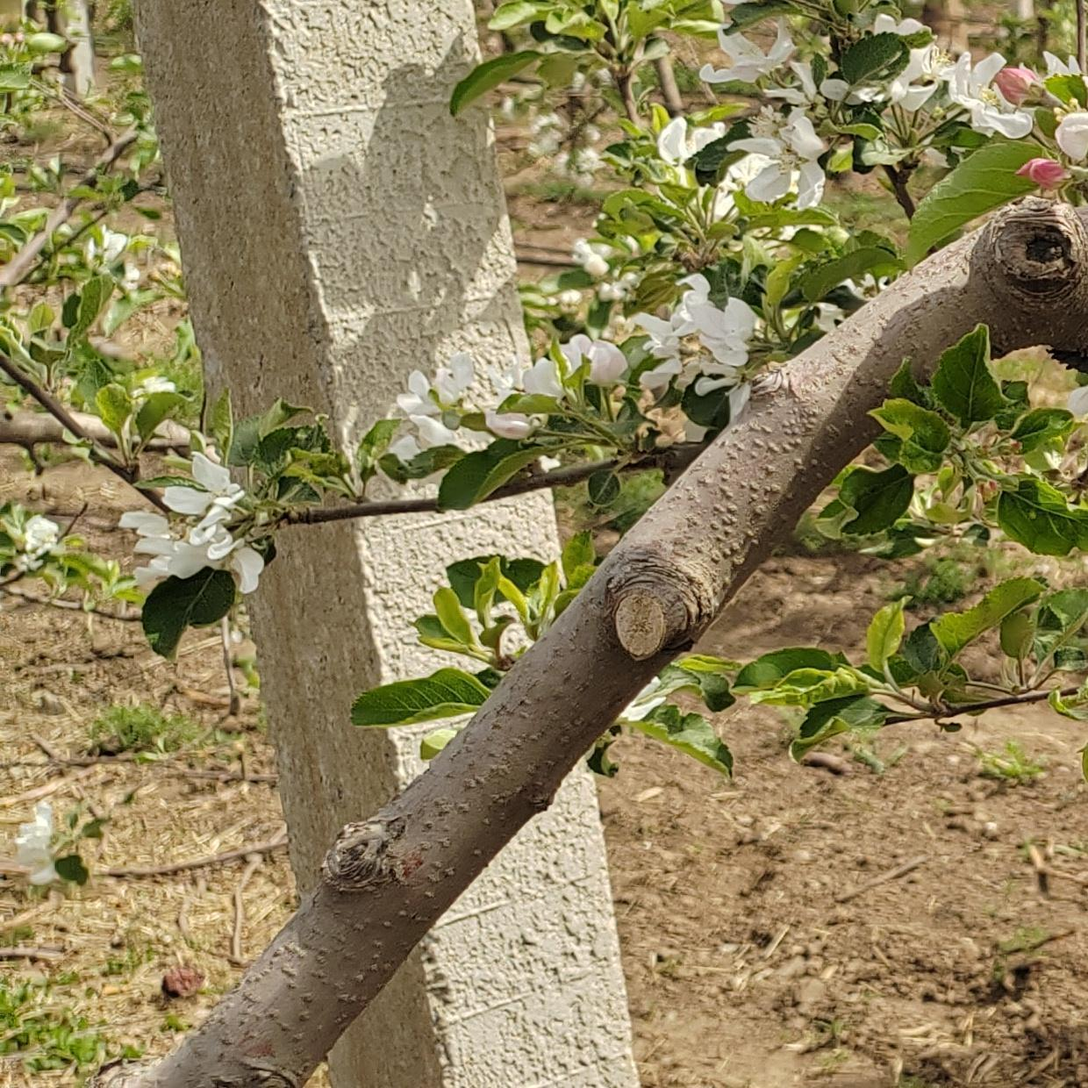apple_flower: (380, 271, 759, 471), (112, 446, 258, 592), (723, 110, 822, 204), (942, 54, 1036, 136), (0, 799, 74, 889), (697, 25, 791, 82), (883, 37, 948, 104), (653, 112, 722, 161), (1051, 73, 1088, 159), (1016, 151, 1064, 188), (1063, 377, 1088, 418), (896, 14, 931, 32)
